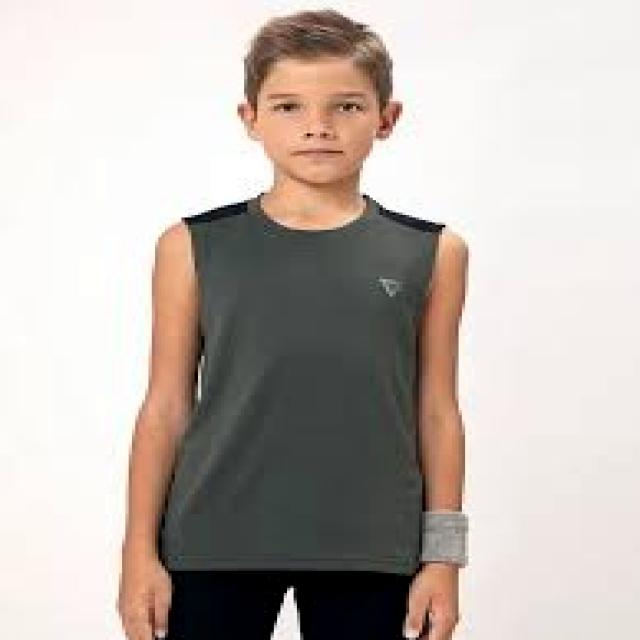face: (238, 57, 402, 182)
lower-wear: (169, 569, 412, 639)
top-wear: (159, 193, 445, 575)
